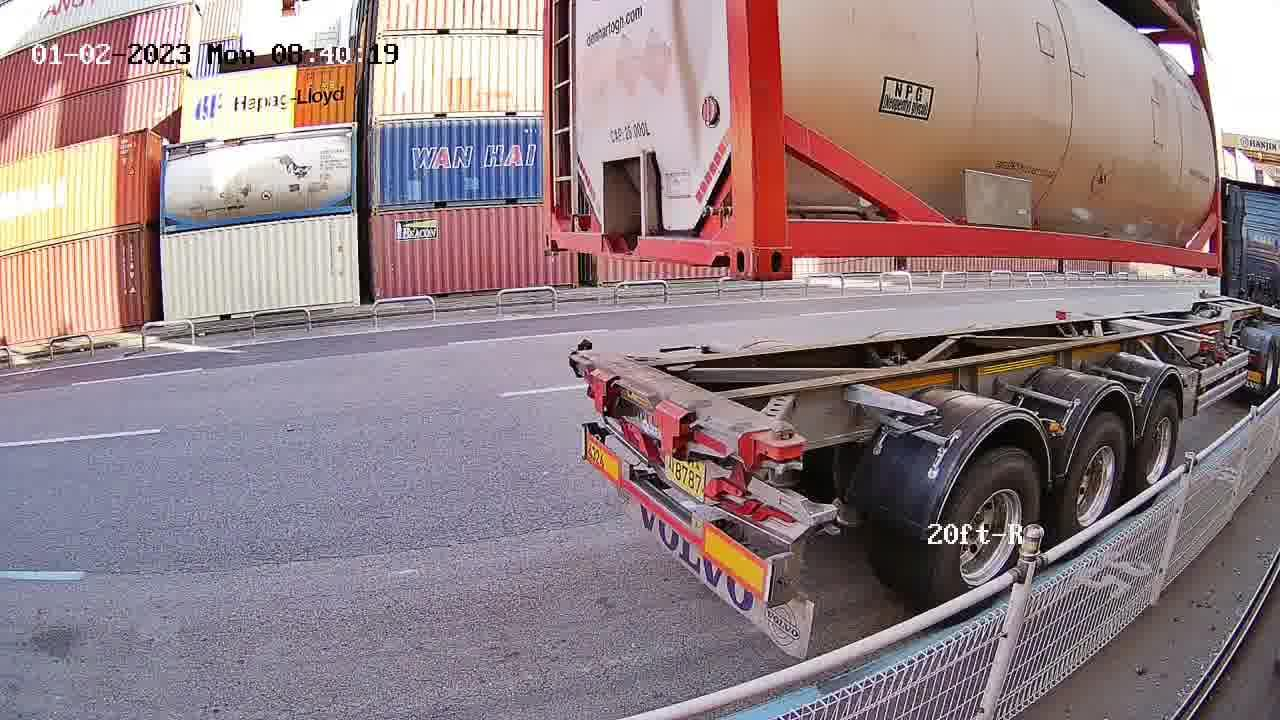Chassis: (570, 349, 800, 461)
Cone: (756, 418, 806, 478), (573, 332, 595, 356)
Hole_L: (753, 196, 833, 280), (542, 214, 572, 253)
Hole_R: (697, 202, 753, 281)
Tire: (932, 449, 1044, 621), (1061, 415, 1127, 556), (1136, 394, 1180, 503)
